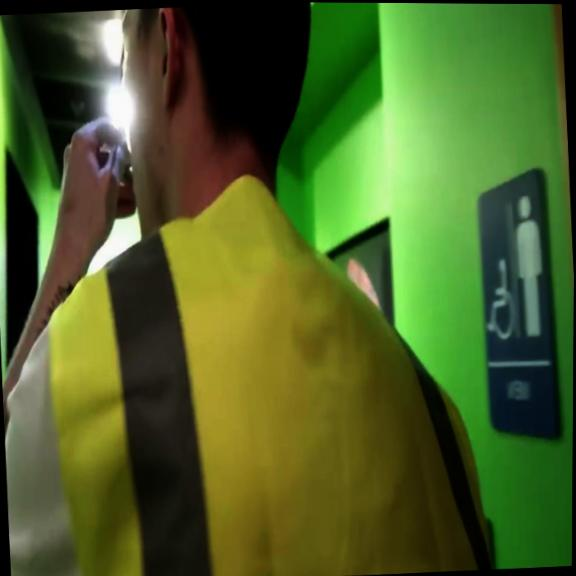safety_vest: (39, 159, 500, 576)
